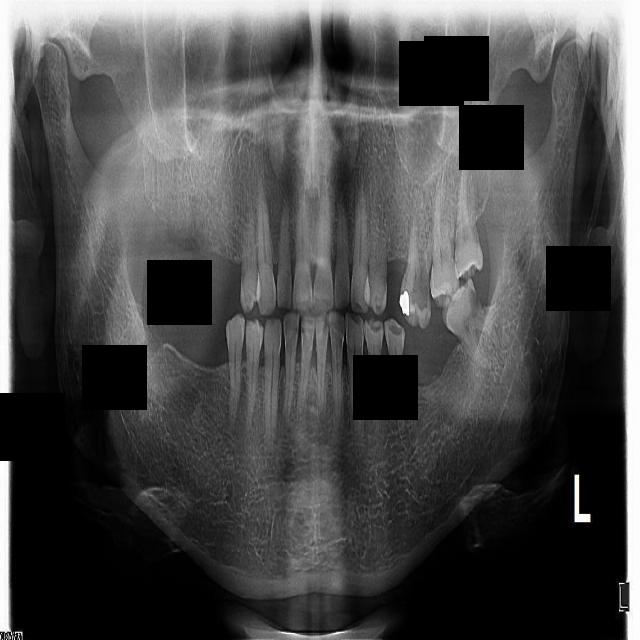NucleOSS Implant: (399, 287, 411, 316)
Sterngold Implant: (410, 268, 432, 313), (463, 282, 485, 319)
